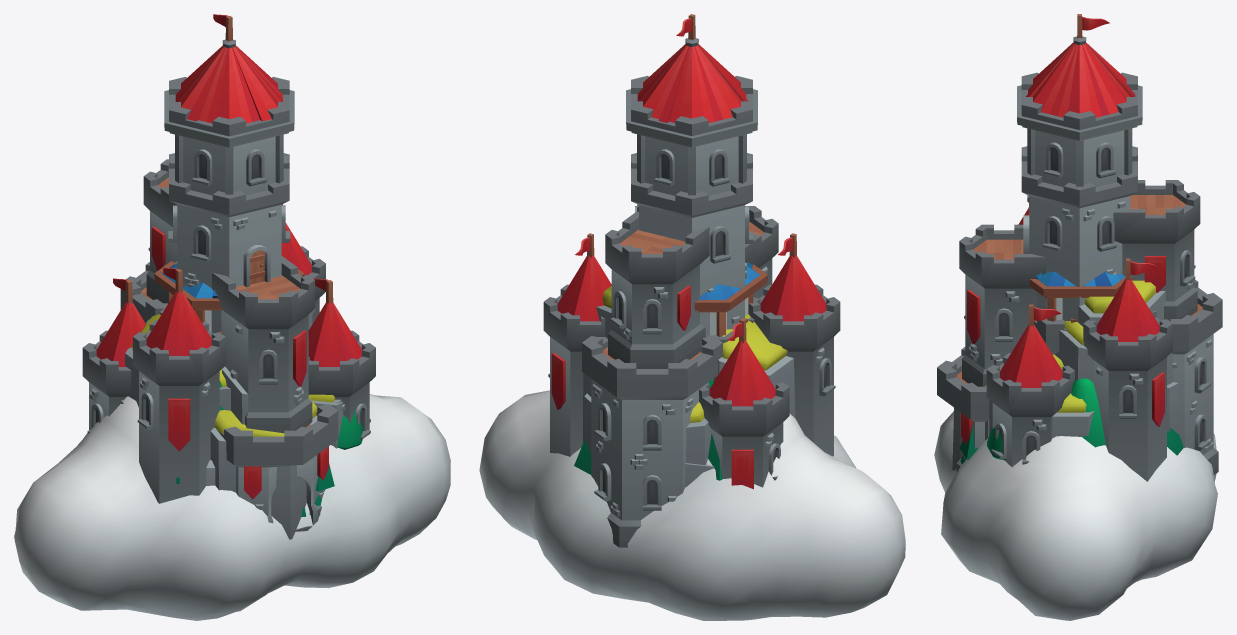
Rendered from k_nature.glb.
3 views of the same model, side by side, from view 1: azimuth 30°, elevation 25°; view 2: azimuth 150°, elevation 25°; view 3: azimuth 270°, elevation 25° (orthographic). The views are drawn at different scales.
Parts seen in each view (by area): view 1: building_castle_red, cloud_big, mountain_C_grass, building_tower_A_top_blue, mountain_A_grass, trees_B_large; view 2: building_castle_red, cloud_big, mountain_C_grass, building_tower_A_top_blue, mountain_B_grass; view 3: building_castle_red, cloud_big, mountain_B_grass, building_tower_A_top_blue, mountain_C_grass, trees_B_medium, building_tower_A_blue, trees_A_large.
Boxes of the visible parts, left/top/right/bottom form: building_castle_red: left=82, top=14, right=375, bottom=531; cloud_big: left=14, top=394, right=450, bottom=620; mountain_C_grass: left=125, top=314, right=340, bottom=539; building_tower_A_top_blue: left=154, top=261, right=304, bottom=334; mountain_A_grass: left=219, top=369, right=343, bottom=447; trees_B_large: left=176, top=409, right=362, bottom=483; building_castle_red: left=543, top=14, right=840, bottom=547; cloud_big: left=479, top=390, right=905, bottom=620; mountain_C_grass: left=584, top=314, right=795, bottom=465; building_tower_A_top_blue: left=694, top=262, right=767, bottom=336; mountain_B_grass: left=583, top=286, right=714, bottom=487; building_castle_red: left=937, top=14, right=1222, bottom=481; cloud_big: left=934, top=411, right=1217, bottom=620; mountain_B_grass: left=1052, top=280, right=1173, bottom=438; building_tower_A_top_blue: left=1029, top=271, right=1132, bottom=322; mountain_C_grass: left=952, top=382, right=1179, bottom=470; trees_B_medium: left=1071, top=378, right=1105, bottom=447; building_tower_A_blue: left=1034, top=319, right=1067, bottom=354; trees_A_large: left=956, top=425, right=1183, bottom=470.
Size of the model in its own units: 3.61 by 4.89 by 2.28.
1 material, 1 textured.
